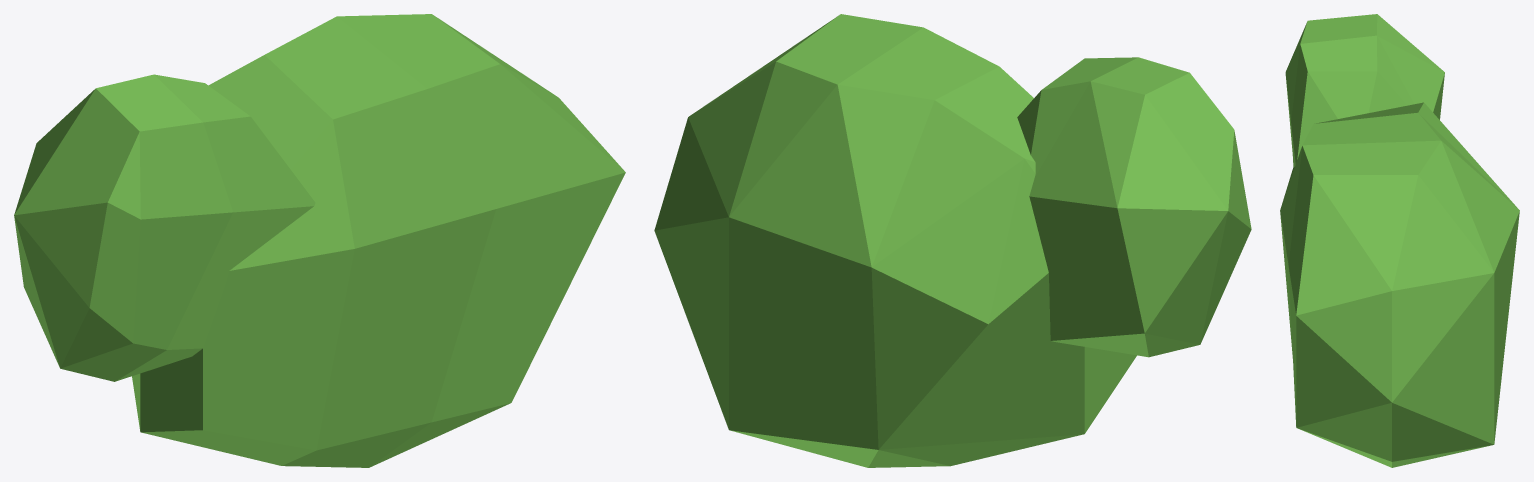
Rendered from SM_Bush1.FBX.
3 views of the same model, side by side, from view 1: azimuth 30°, elevation 25°; view 2: azimuth 150°, elevation 25°; view 3: azimuth 270°, elevation 25° (orthographic). The views are drawn at different scales.
Parts seen in each view (by area): view 1: SM_Bush1; view 2: SM_Bush1; view 3: SM_Bush1.
Part boxes in pixels (x1,y1,x2,y2): SM_Bush1: [14, 14, 625, 467]; SM_Bush1: [654, 14, 1251, 467]; SM_Bush1: [1280, 14, 1519, 467].
Size of the model in its own units: 45.65 by 20.91 by 33.52.
